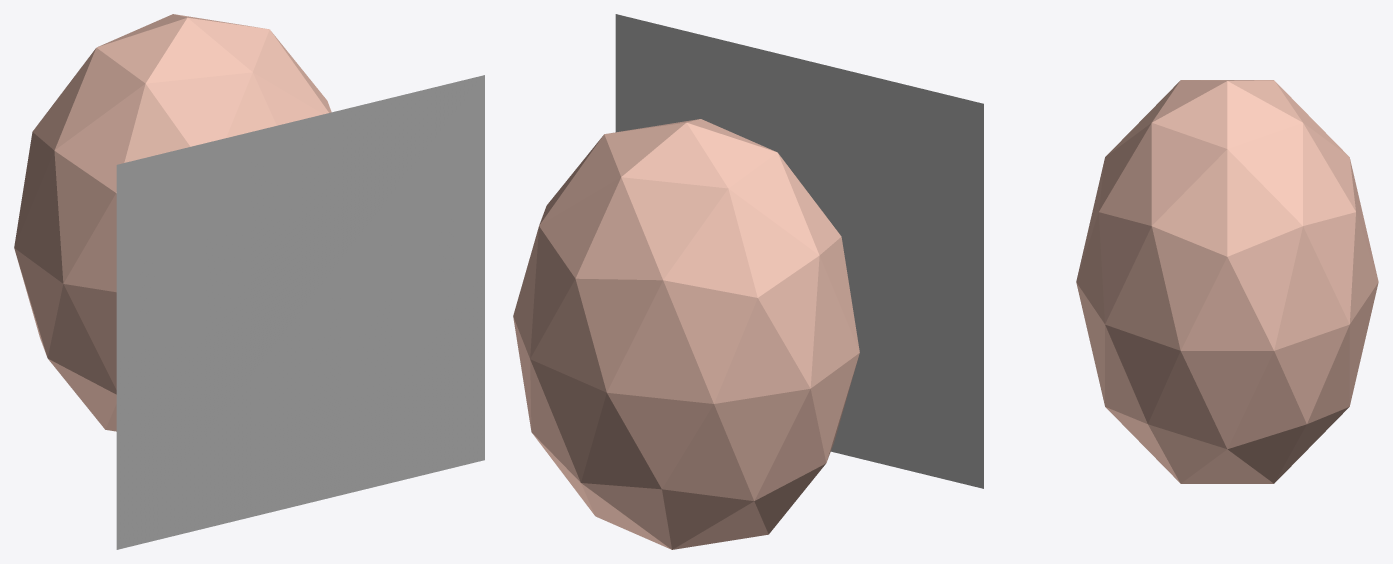
The model's file is face_sdf_fixture.glb.
3 renders of one model, left to right at view 1: azimuth 30°, elevation 25°; view 2: azimuth 150°, elevation 25°; view 3: azimuth 270°, elevation 25°, orthographic. The views are drawn at different scales.
Parts seen in each view (by area): view 1: FaceSdfReferenceQuad, FaceSdfHead; view 2: FaceSdfHead, FaceSdfReferenceQuad; view 3: FaceSdfHead.
Part boxes in pixels (x1,y1,x2,y2): FaceSdfReferenceQuad: (116,75,484,549); FaceSdfHead: (14,14,331,431); FaceSdfHead: (513,119,859,549); FaceSdfReferenceQuad: (615,14,983,488); FaceSdfHead: (1076,80,1378,483).
Bounding box in the file's own units: 1.5 × 1.65 × 1.36.
